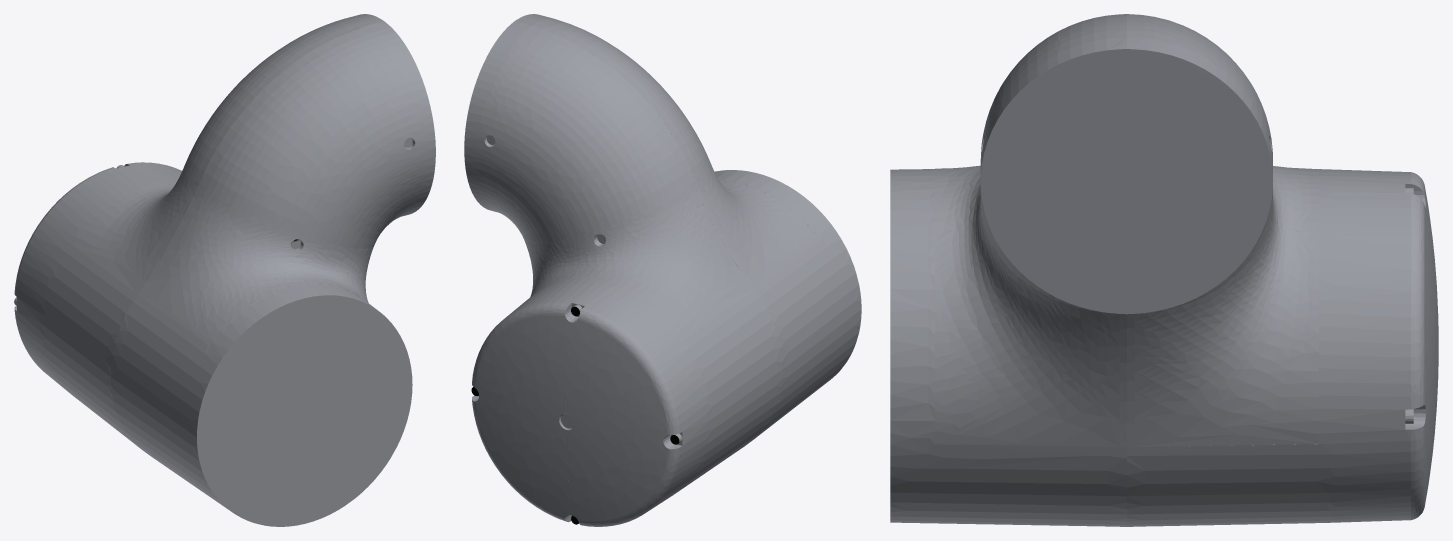
3 views of the same model, side by side, from view 1: azimuth 30°, elevation 25°; view 2: azimuth 150°, elevation 25°; view 3: azimuth 270°, elevation 25° (orthographic). The views are drawn at different scales.
Parts seen in each view (by area): view 1: Link_3; view 2: Link_3; view 3: Link_3.
Boxes of the visible parts, <box> form: Link_3: <box>14,14,435,526</box>; Link_3: <box>464,14,861,526</box>; Link_3: <box>890,14,1438,526</box>.
Bounding box in the file's own units: 0.161 × 0.2276 × 0.197.
Materials: 1 (1 with a texture image).
